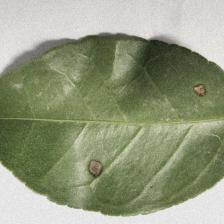canker: (65, 65, 224, 190)
